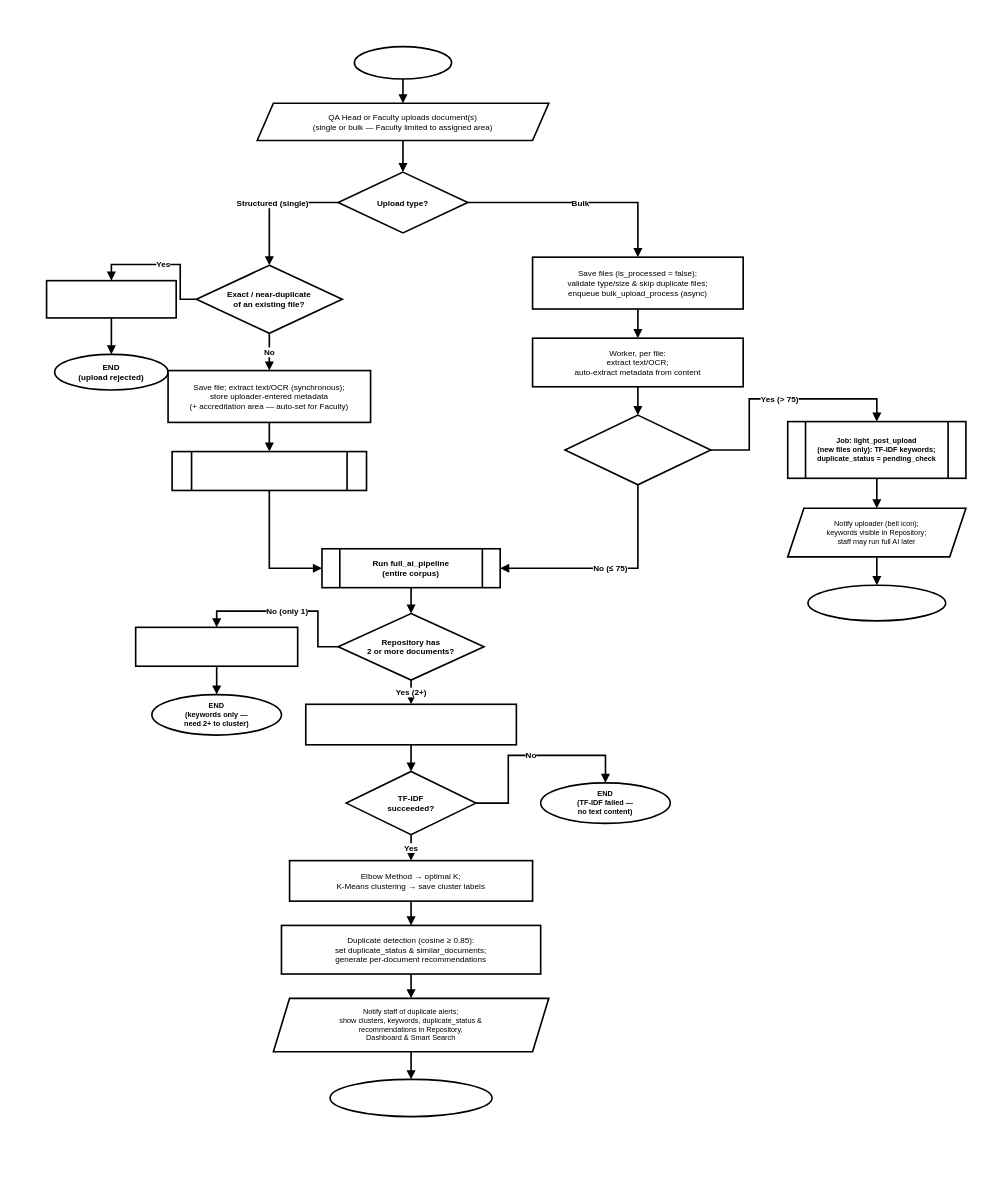
Some shapes in this 1000 by 1202 pixel diagram are drawn without their labels. Each missing label, with the centre of its shape:
"Compute TF-IDF for all documents; save keywords to database" belongs at point 411,724.
"END (bulk processed — light)" belongs at point 876,602.
"END AI Processing Complete" belongs at point 410,1097.
"Enqueue job: full_ai_pipeline (always — no count threshold)" belongs at point 269,470.
"Reject upload, show error to user" belongs at point 111,298.
"START" belongs at point 402,62.
"TF-IDF keywords only (single document)" belongs at point 216,646.
"Total documents in repository > 75? (bulk path only)" belongs at point 637,449.
